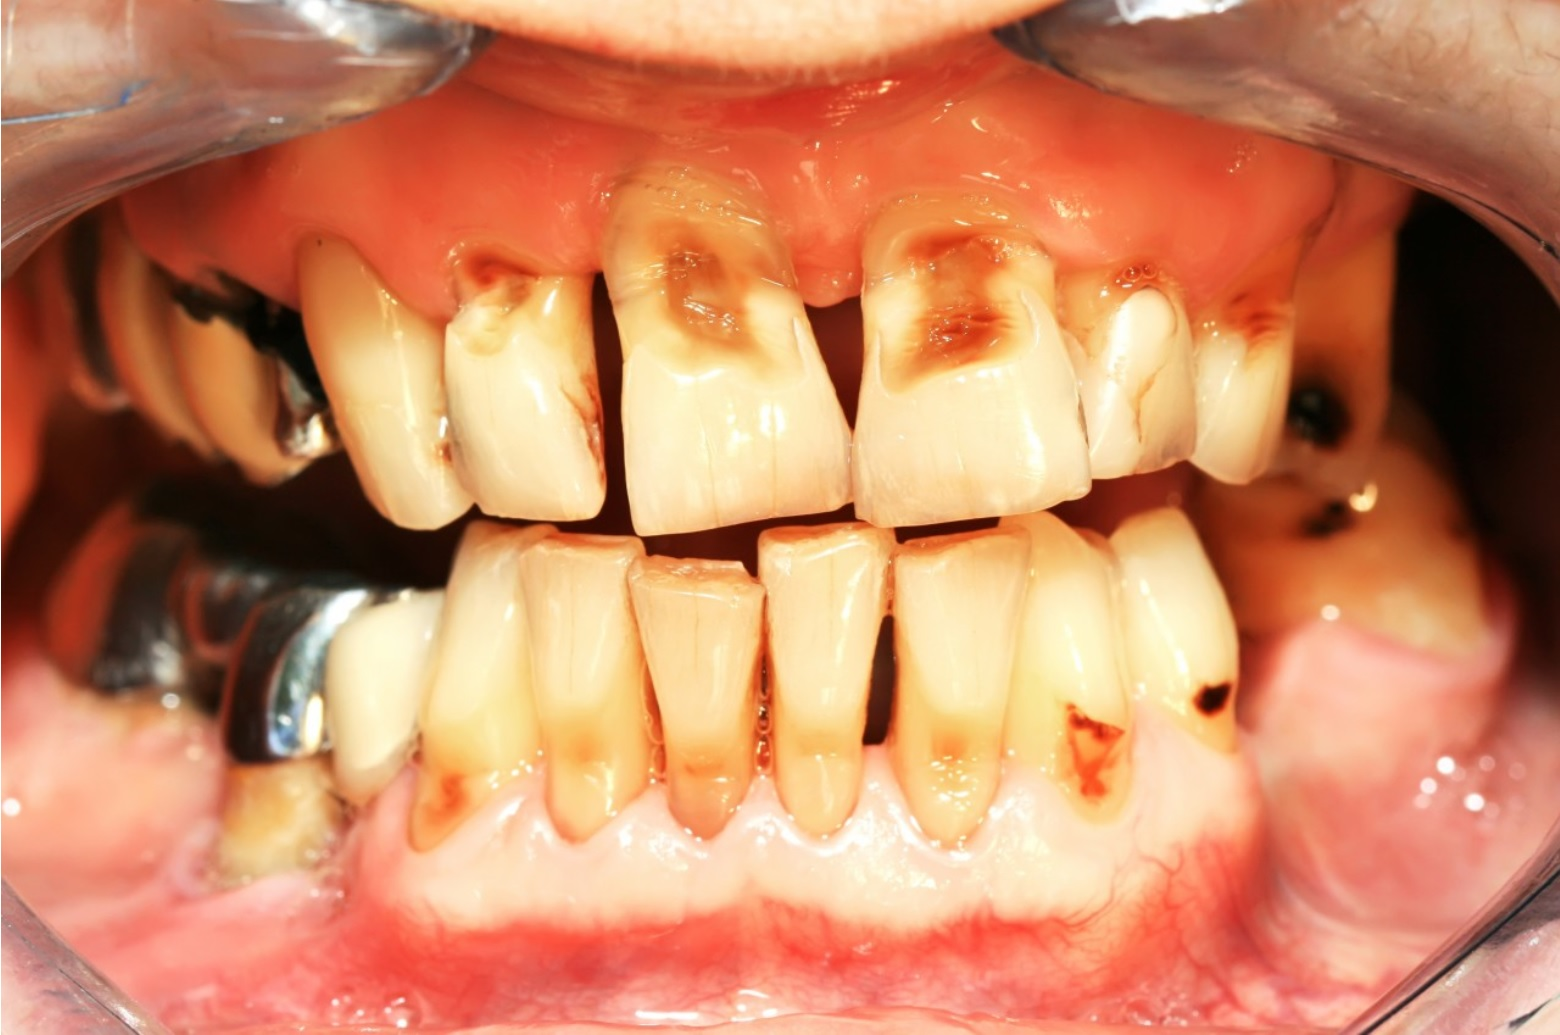LL1BC_decay: (1124, 517, 1251, 779)
LLCI_decay: (753, 524, 894, 842)
LLC_decay: (1014, 505, 1136, 832)
LLLI_decay: (891, 530, 1028, 849)
LR1BC_decay: (319, 569, 450, 816)
LR2BC_decay: (221, 584, 372, 846)
LRCI_decay: (629, 548, 757, 841)
LRC_decay: (406, 541, 536, 868)
LRLI_decay: (527, 534, 658, 852)
ULCI_decay: (843, 222, 1094, 527)
ULC_decay: (1192, 300, 1285, 486)
ULLI_decay: (1070, 263, 1204, 479)
UR1BC_decay: (176, 265, 331, 483)
URCI_decay: (592, 173, 854, 524)
URC_healthy: (294, 237, 468, 534)
URLI_decay: (441, 241, 614, 527)
